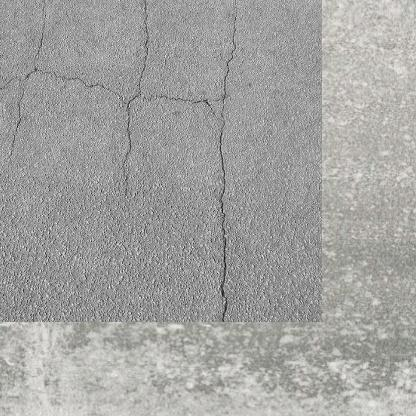Cracks: (0, 0, 223, 298)
